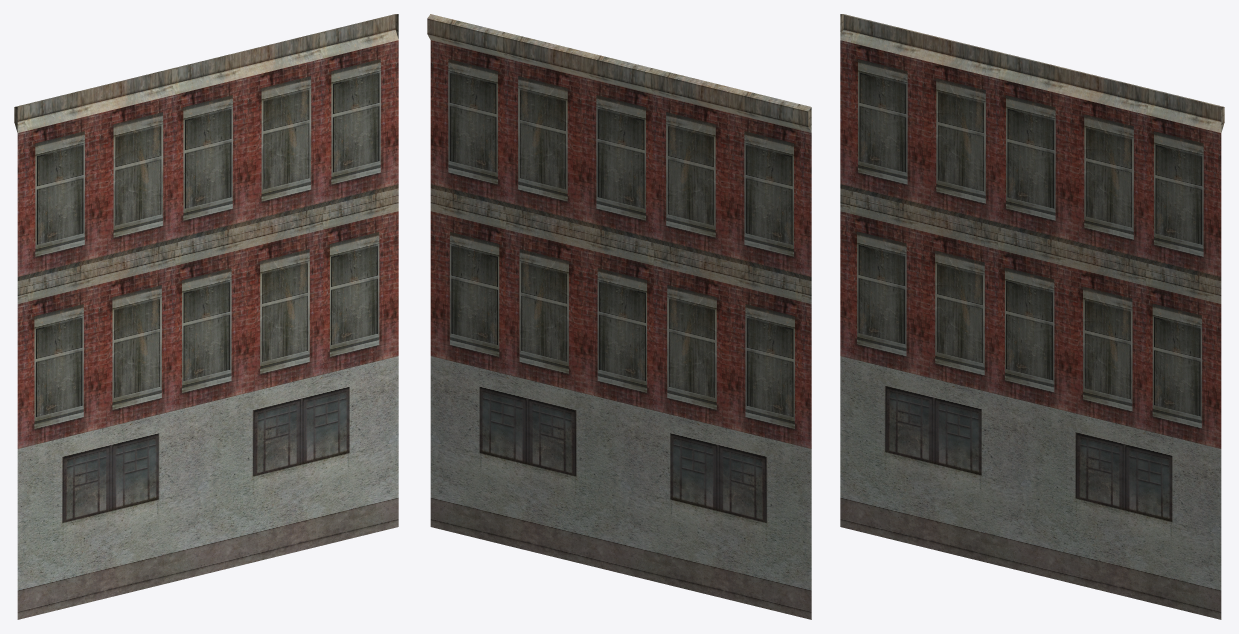
Rendered from Blocks_House_05.fbx.
3 renders of one model, left to right at view 1: azimuth 30°, elevation 25°; view 2: azimuth 150°, elevation 25°; view 3: azimuth 330°, elevation 25°, orthographic.
Parts seen in each view (by area): view 1: Blocks_House_05_C, Blocks_House_05_A, Blocks_House_05_B; view 2: Blocks_House_05_C, Blocks_House_05_A, Blocks_House_05_B; view 3: Blocks_House_05_C, Blocks_House_05_A, Blocks_House_05_B.
Part boxes in pixels (left/top/right/bottom): Blocks_House_05_C: left=14, top=14, right=398, bottom=277; Blocks_House_05_A: left=17, top=356, right=398, bottom=619; Blocks_House_05_B: left=17, top=185, right=398, bottom=448; Blocks_House_05_C: left=427, top=14, right=811, bottom=277; Blocks_House_05_A: left=430, top=356, right=811, bottom=619; Blocks_House_05_B: left=430, top=185, right=811, bottom=448; Blocks_House_05_C: left=840, top=14, right=1224, bottom=277; Blocks_House_05_A: left=840, top=356, right=1221, bottom=619; Blocks_House_05_B: left=840, top=185, right=1221, bottom=448.
Bounding box in the file's own units: 700 × 900 × 10.39.
